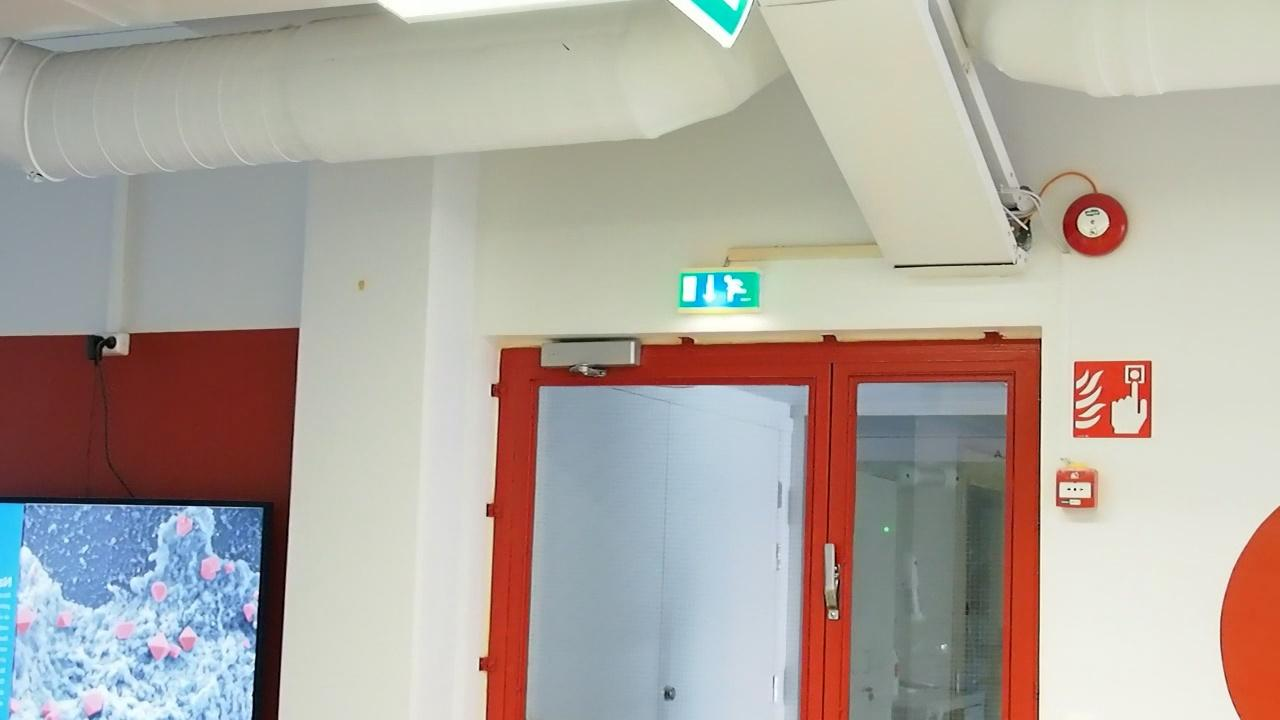exit: (677, 267, 767, 316)
